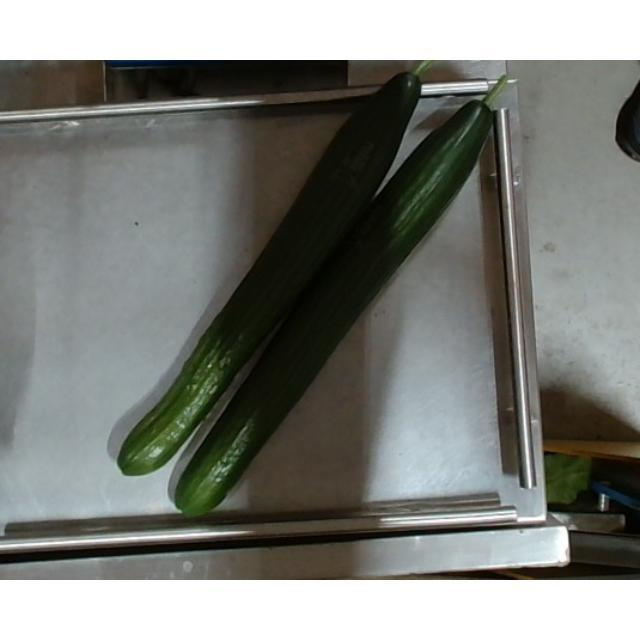cucumber: (177, 72, 509, 522), (116, 60, 432, 478)
